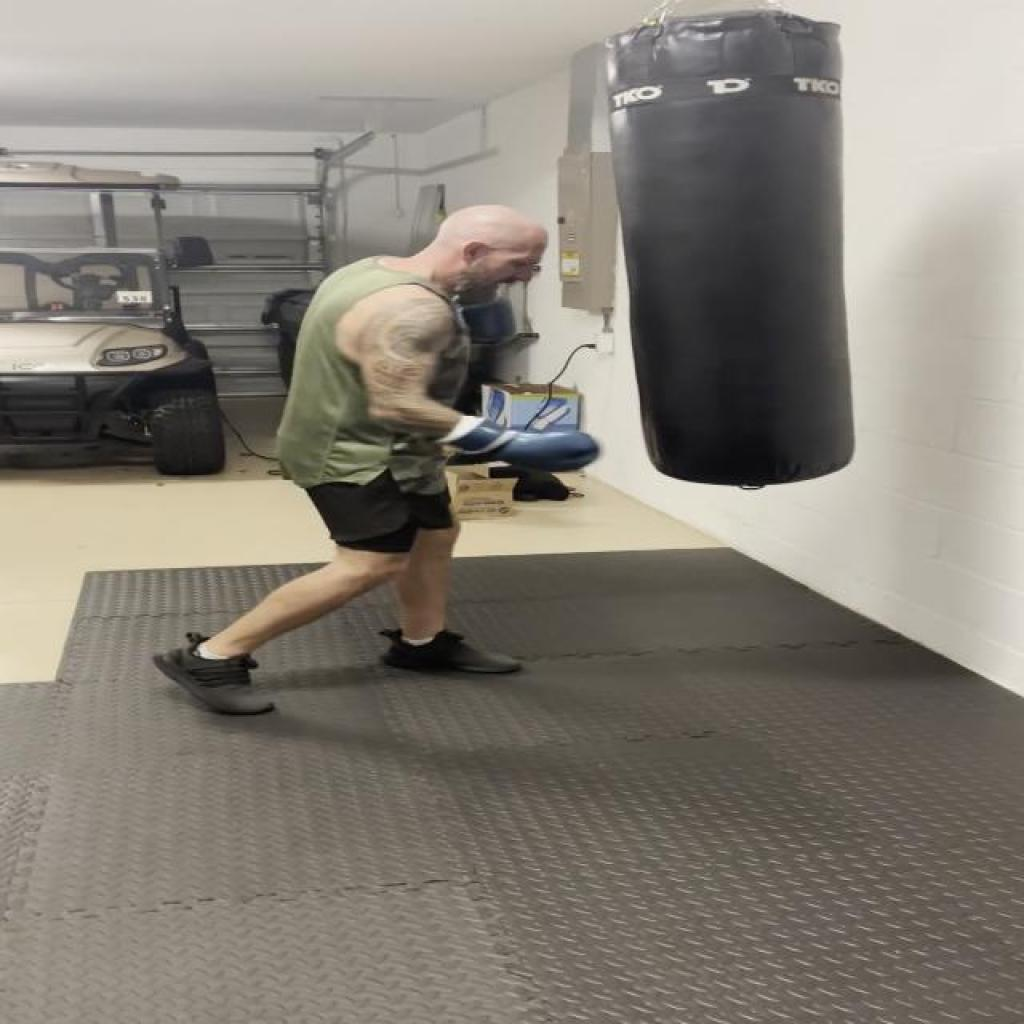bag: (598, 20, 884, 486)
uppercut: (314, 206, 610, 485)
